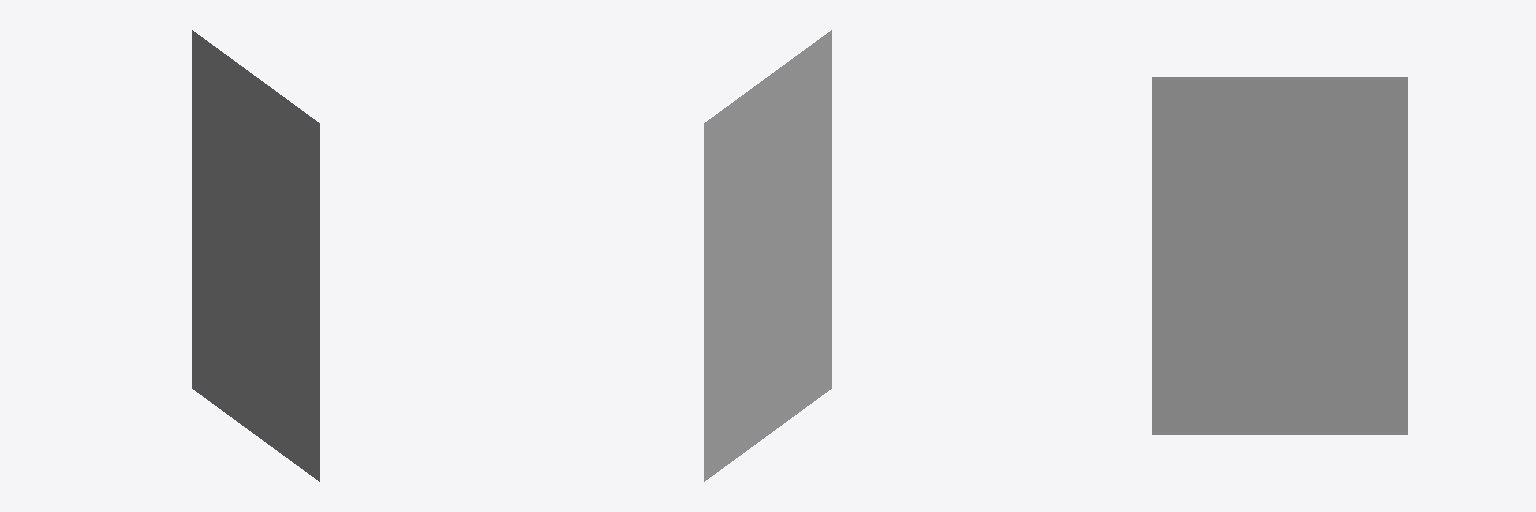
Rendered from flag.obj.
The picture shows the model from 3 angles: view 1: azimuth 30°, elevation 25°; view 2: azimuth 150°, elevation 25°; view 3: azimuth 270°, elevation 25°; orthographic projection.
Visible parts, largest first — view 1: Plane; view 2: Plane; view 3: Plane.
Part boxes in pixels (left/top/right/bottom): Plane: left=192, top=30, right=319, bottom=481; Plane: left=704, top=30, right=831, bottom=481; Plane: left=1152, top=77, right=1407, bottom=434.
Size of the model in its own units: 0 by 15.55 by 10.02.